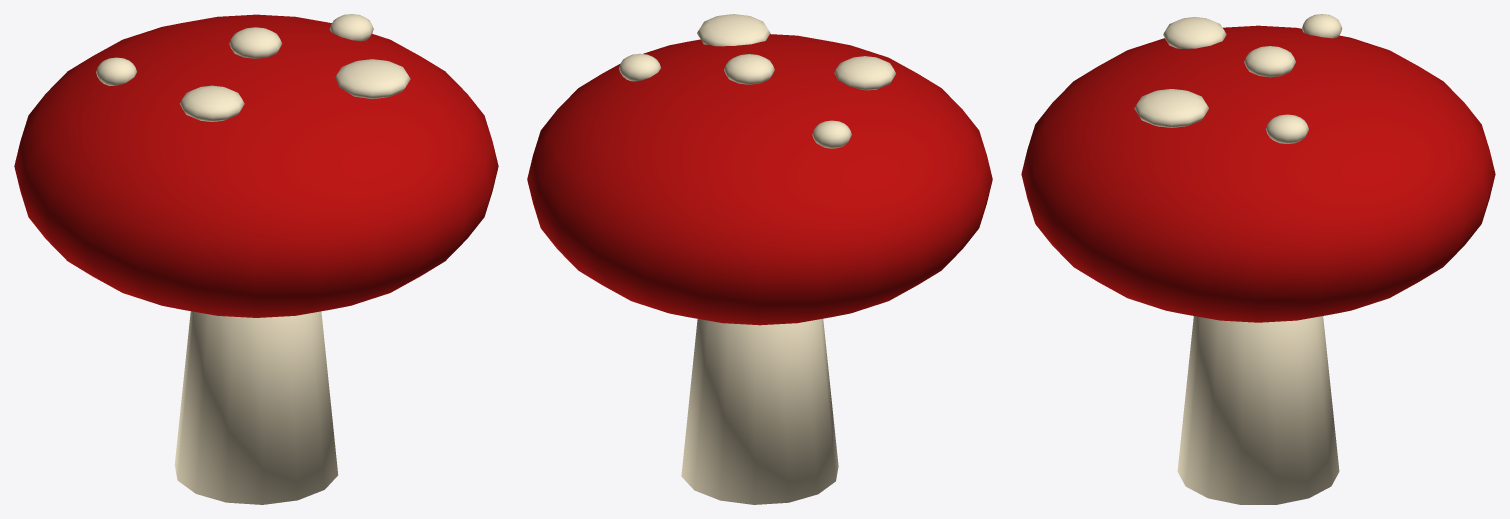
File: mushroom.fbx
The picture shows the model from 3 angles, left to right: view 1: azimuth 30°, elevation 25°; view 2: azimuth 150°, elevation 25°; view 3: azimuth 270°, elevation 25°; orthographic projection. The views are drawn at different scales.
Visible parts, largest first — view 1: mushroom; view 2: mushroom; view 3: mushroom.
Part boxes in pixels (x1,y1,x2,y2): mushroom: [14, 14, 498, 504]; mushroom: [527, 14, 992, 504]; mushroom: [1021, 14, 1495, 504].
Size of the model in its own units: 100 by 98.62 by 100.
Materials: 1 (1 with a texture image).
